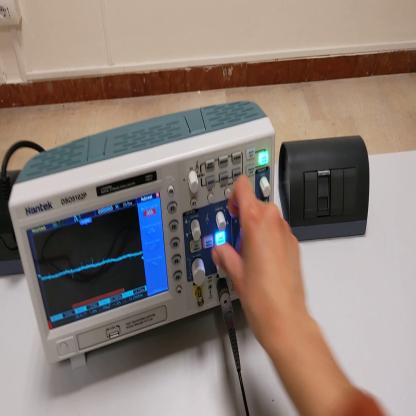hand: (212, 174, 308, 351)
oscilloscope: (8, 97, 277, 369)
socket: (2, 171, 25, 278)
